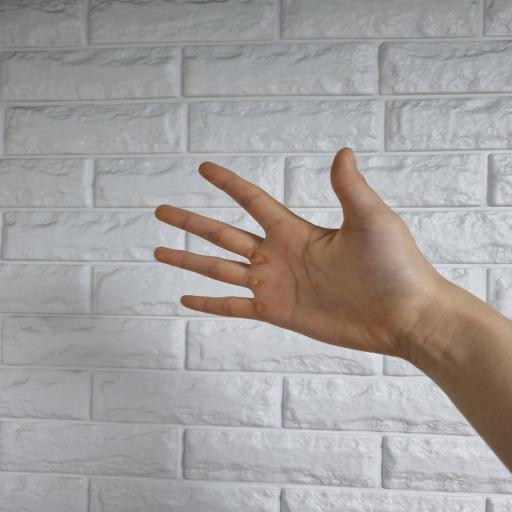Paper: (153, 147, 460, 357)
